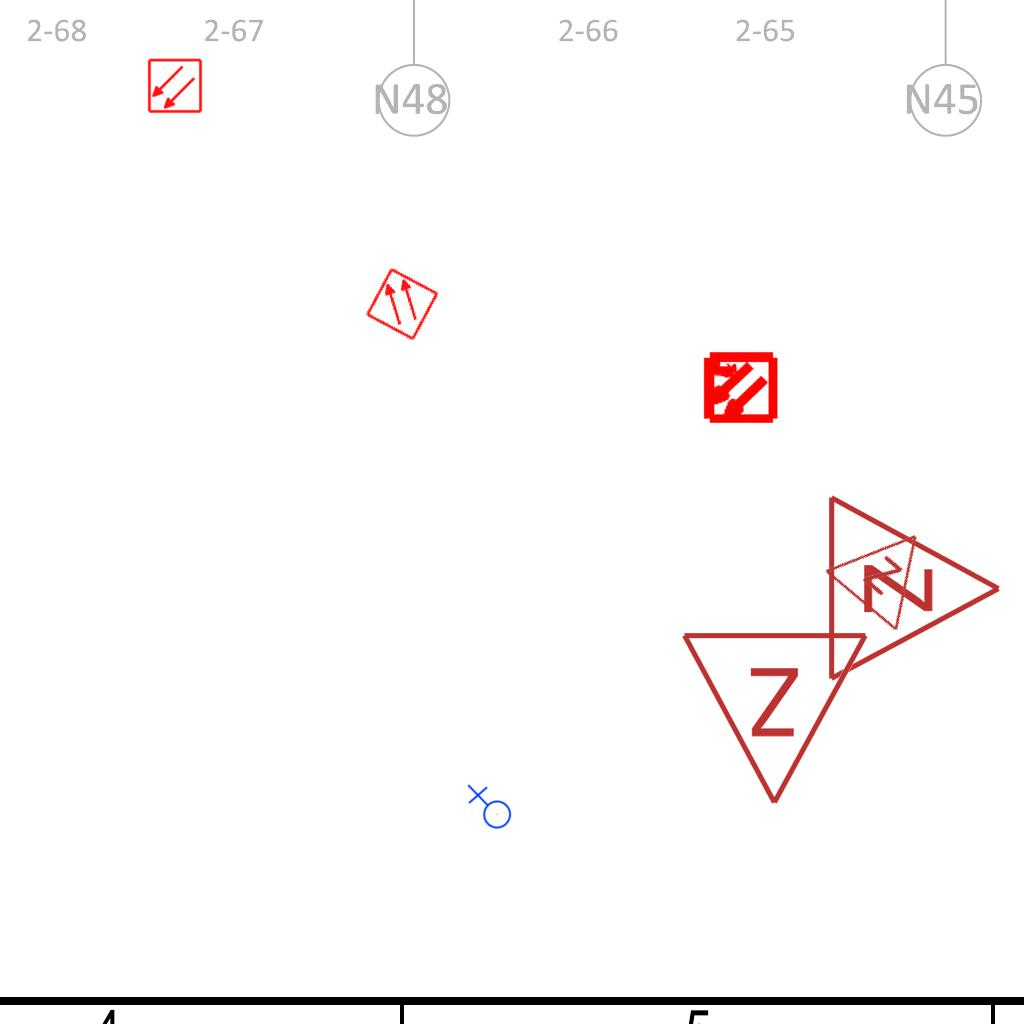Elektroanschluss_allgemein_230V_Geraeteanschlussdose_230V: (465, 784, 512, 833)
OT_Multisensormelder_(Kombination_RMO_WMD): (682, 331, 795, 444)
RMO_Rauchmelder_optischer: (364, 266, 440, 342), (147, 58, 203, 114)
Zimmersignalleuchte: (814, 488, 1014, 684), (679, 618, 875, 818), (817, 498, 957, 638)
